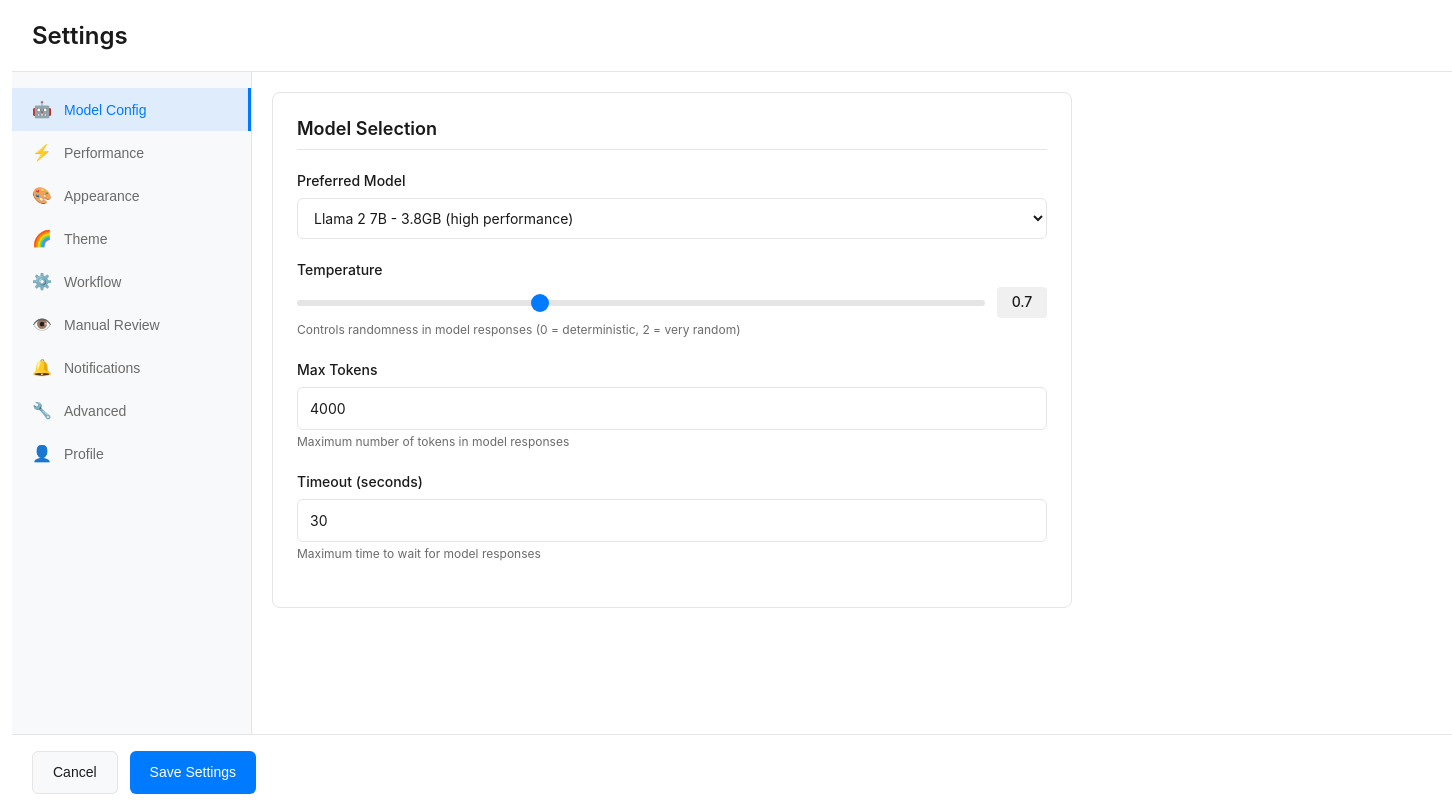
Test case: Settings Component › displays user profile information in profile tab
The width and height of the screenshot is (1452, 810).
Expected: the heading "Settings" is shown, top-left (32, 20), bottom-right (128, 51)
# Click on Profile tab
Step 1. Click the text "Profile" → (84, 454), box top-left (64, 446), bottom-right (104, 462)
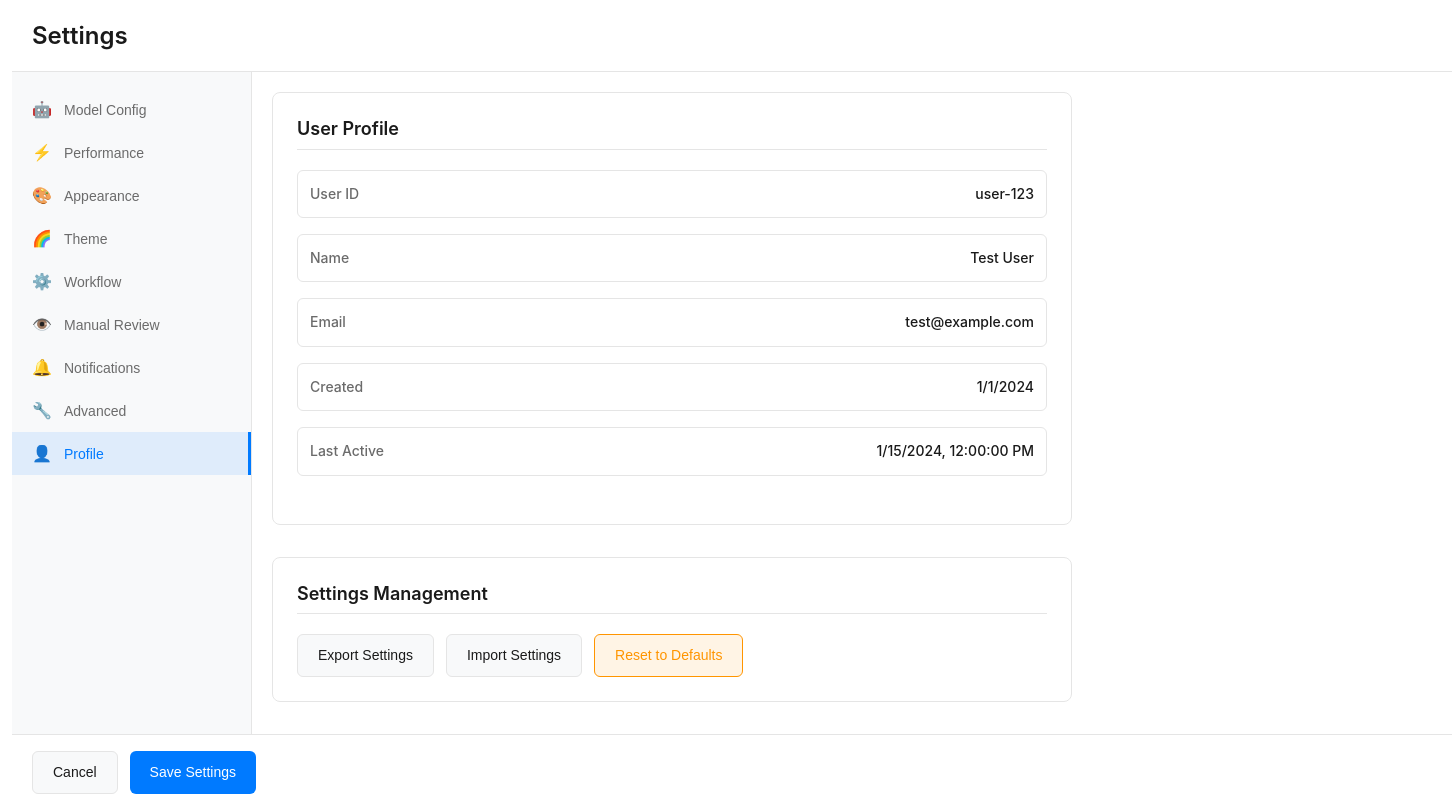
Expected: the heading "User Profile" is shown, top-left (297, 117), bottom-right (1047, 150)
Expected: the text "user-123" is shown, top-left (975, 183), bottom-right (1034, 205)
Expected: the text "Test User" is shown, top-left (970, 247), bottom-right (1034, 269)
